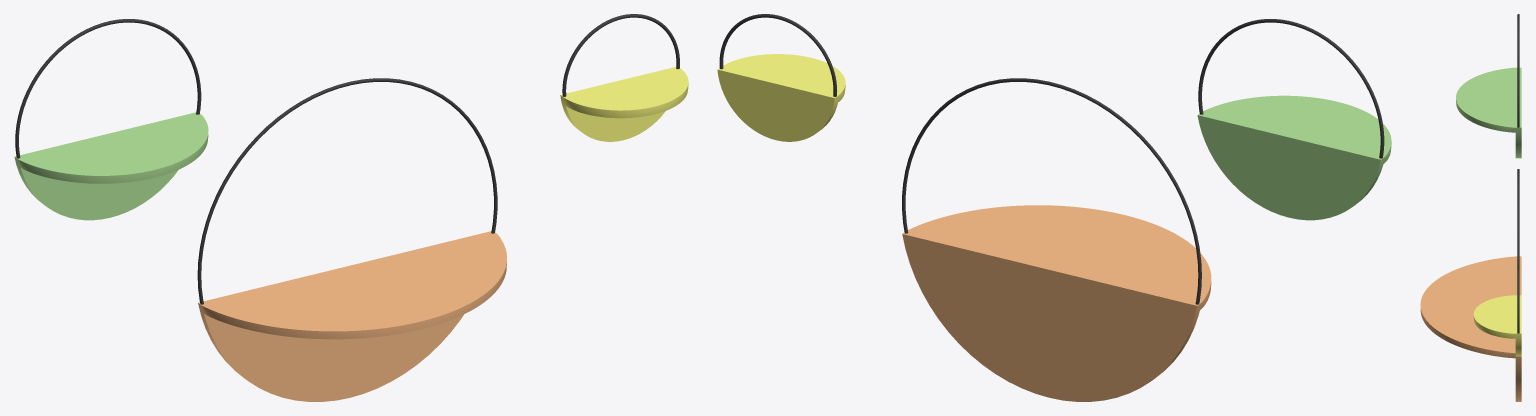
Rendered from webar 2.glb.
3 views of the same model, side by side, from view 1: azimuth 30°, elevation 25°; view 2: azimuth 150°, elevation 25°; view 3: azimuth 270°, elevation 25° (orthographic). The views are drawn at different scales.
Parts seen in each view (by area): view 1: Kes-Ekstrüzyon12_-_Parça, Kes-Ekstrüzyon2_-_Parça, Kes-Ekstrüzyon11_-_Parça, Süpür4_-_Parça, Süpür3_-_Parça, Süpür5_-_Parça; view 2: Kes-Ekstrüzyon12_-_Parça, Kes-Ekstrüzyon2_-_Parça, Kes-Ekstrüzyon11_-_Parça, Süpür4_-_Parça, Süpür3_-_Parça, Süpür5_-_Parça; view 3: Kes-Ekstrüzyon12_-_Parça, Kes-Ekstrüzyon2_-_Parça, Kes-Ekstrüzyon11_-_Parça, Süpür3_-_Parça, Süpür4_-_Parça, Süpür5_-_Parça.
Boxes of the visible parts, bbox=[...] form: Kes-Ekstrüzyon12_-_Parça: bbox=[198, 231, 506, 401]; Kes-Ekstrüzyon2_-_Parça: bbox=[14, 112, 208, 220]; Kes-Ekstrüzyon11_-_Parça: bbox=[560, 67, 688, 141]; Süpür4_-_Parça: bbox=[197, 78, 497, 304]; Süpür3_-_Parça: bbox=[15, 19, 201, 158]; Süpür5_-_Parça: bbox=[562, 14, 679, 96]; Kes-Ekstrüzyon12_-_Parça: bbox=[902, 205, 1211, 401]; Kes-Ekstrüzyon2_-_Parça: bbox=[1197, 95, 1391, 220]; Kes-Ekstrüzyon11_-_Parça: bbox=[717, 54, 845, 141]; Süpür4_-_Parça: bbox=[902, 78, 1201, 304]; Süpür3_-_Parça: bbox=[1198, 19, 1384, 158]; Süpür5_-_Parça: bbox=[719, 14, 836, 96]; Kes-Ekstrüzyon12_-_Parça: bbox=[1420, 256, 1521, 401]; Kes-Ekstrüzyon2_-_Parça: bbox=[1456, 67, 1521, 158]; Kes-Ekstrüzyon11_-_Parça: bbox=[1473, 295, 1521, 356]; Süpür3_-_Parça: bbox=[1517, 14, 1519, 127]; Süpür4_-_Parça: bbox=[1517, 169, 1519, 265]; Süpür5_-_Parça: bbox=[1517, 265, 1519, 333].
Size of the model in its own units: 1.04 by 0.6483 by 0.2036.
